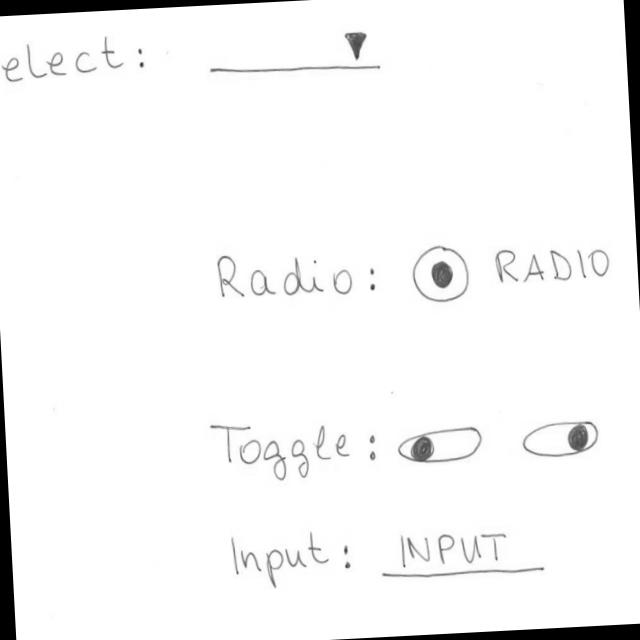input: (377, 521, 548, 584)
radio: (409, 231, 614, 307)
select: (205, 27, 385, 85)
toggle: (396, 421, 487, 469), (520, 416, 605, 464)
